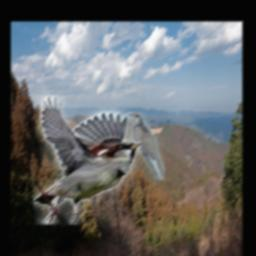Cuckoo: (127, 113, 165, 181)
Sparrow: (34, 96, 142, 226)
